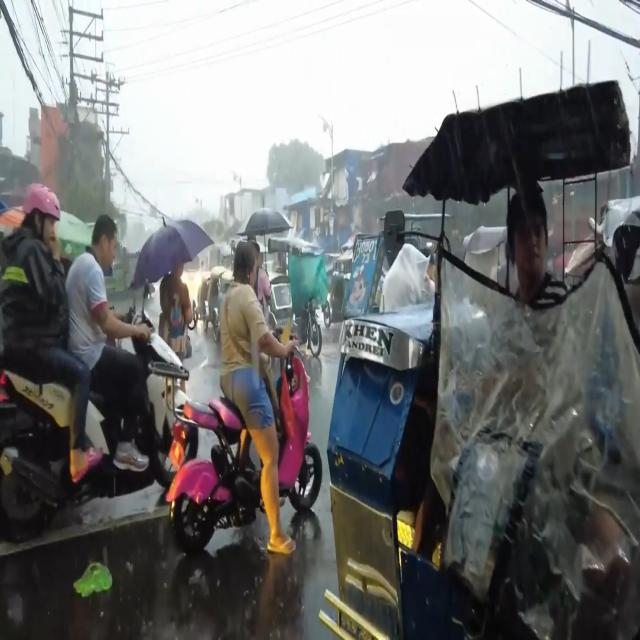invalid: (24, 183, 62, 244)
not_wearing: (92, 214, 117, 272), (232, 240, 260, 288)
